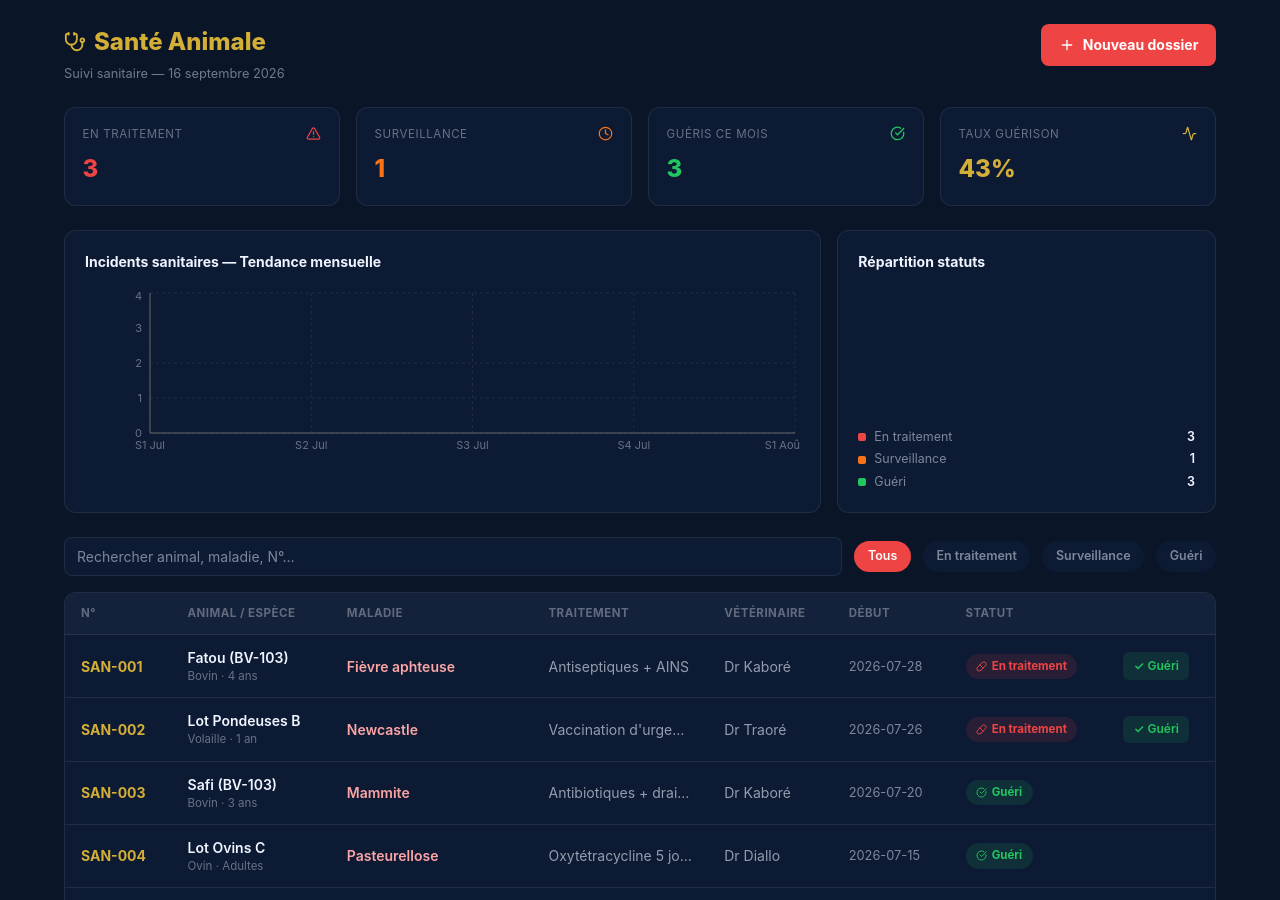
it: SantePage › le filtre Surveillance affiche seulement les dossiers en surveillance
Click the button "Surveillance".
click(1093, 556)  # box [1042,540,1144,572]
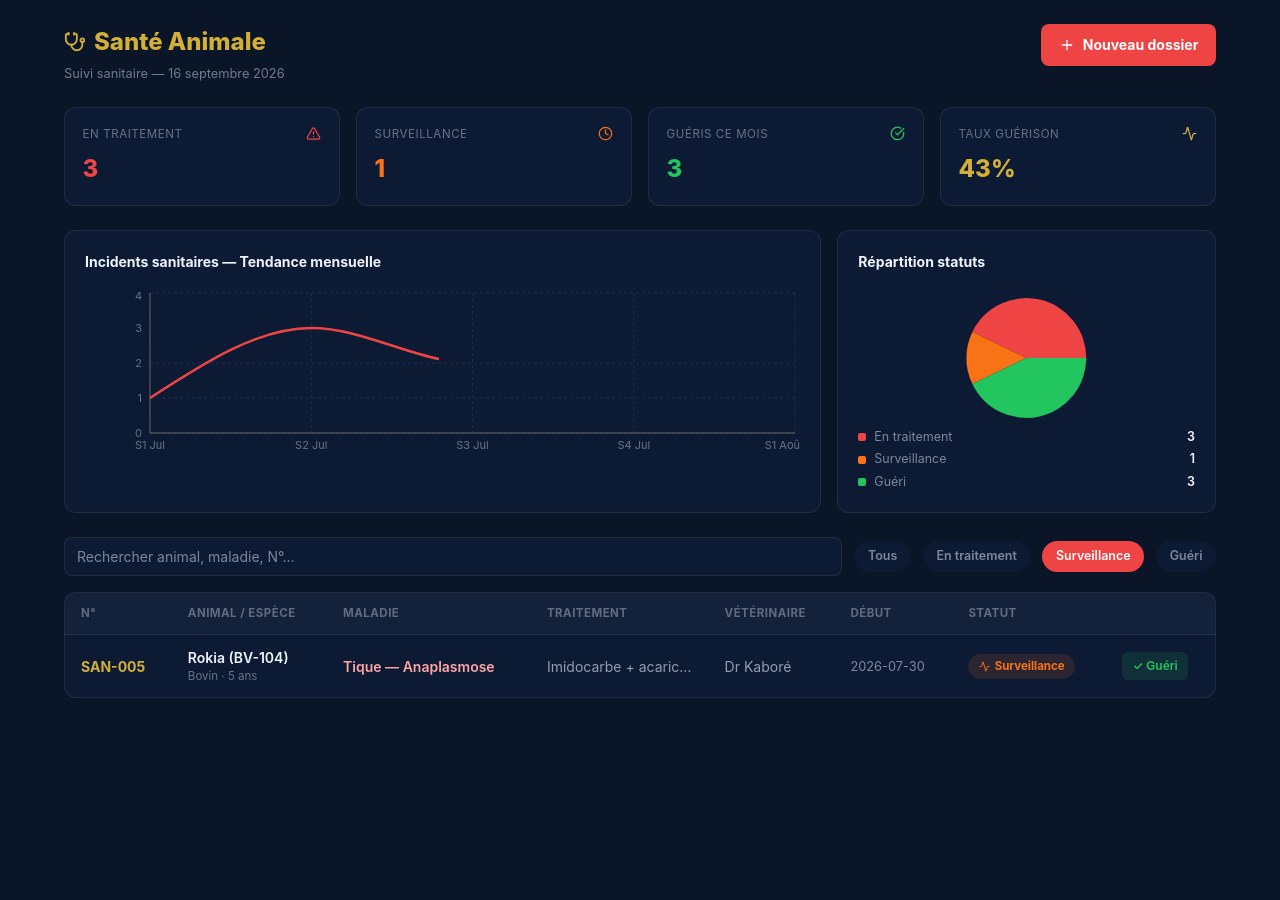
Expected: the text "SAN-005" is shown, [65,635,172,697]
Now the text "SAN-001" is gone
